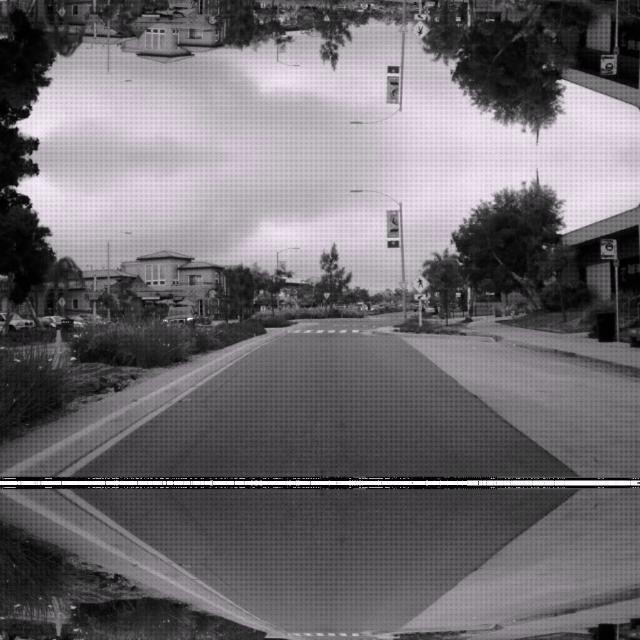pedestrianCrossing: (410, 272, 430, 292), (410, 20, 430, 40)
